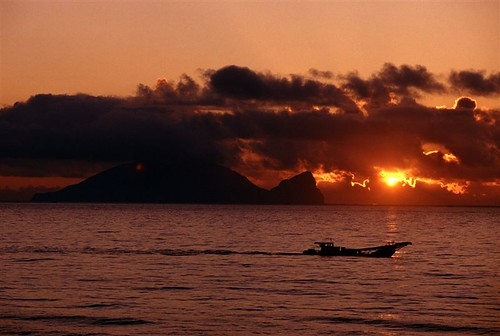turtleIsland: (33, 150, 323, 204)
